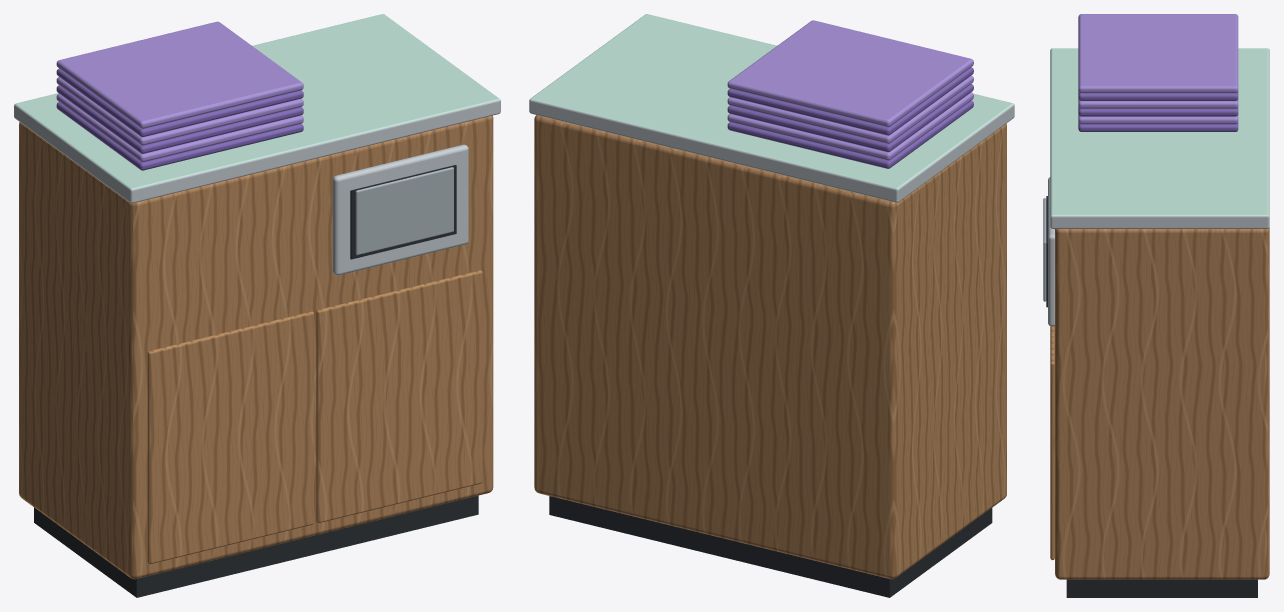
File: SM_BinCabinet.glb
3 renders of one model, left to right at view 1: azimuth 30°, elevation 25°; view 2: azimuth 150°, elevation 25°; view 3: azimuth 270°, elevation 25°, orthographic. The views are drawn at different scales.
Visible parts, largest first — view 1: SM_BinCabinet, TrayStack, Flap; view 2: SM_BinCabinet, TrayStack; view 3: SM_BinCabinet, TrayStack, Flap.
Boxes of the visible parts, x1,y1,x2,y2 form: SM_BinCabinet: (14, 14, 500, 597); TrayStack: (56, 21, 303, 170); Flap: (355, 167, 453, 255); SM_BinCabinet: (529, 14, 1014, 597); TrayStack: (727, 20, 973, 168); SM_BinCabinet: (1046, 48, 1269, 597); TrayStack: (1078, 14, 1238, 131); Flap: (1043, 198, 1046, 301).
Bounding box in the file's own units: 1.02 × 1.23 × 0.58.
4 materials, 4 textured.
